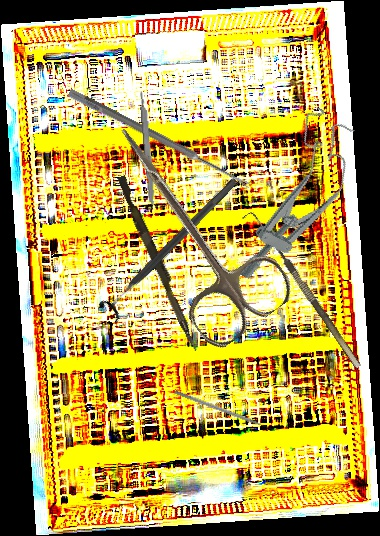Fixation Ring: (95, 170, 246, 325)
Hook Surgical: (241, 208, 362, 375), (173, 389, 278, 434)
Iris Scissors: (76, 101, 300, 355)
Pusher: (112, 175, 205, 352)
Scalpel Handle: (138, 90, 158, 210)
Speculum: (225, 104, 371, 298)
Surgical Spoon: (66, 88, 253, 190)
